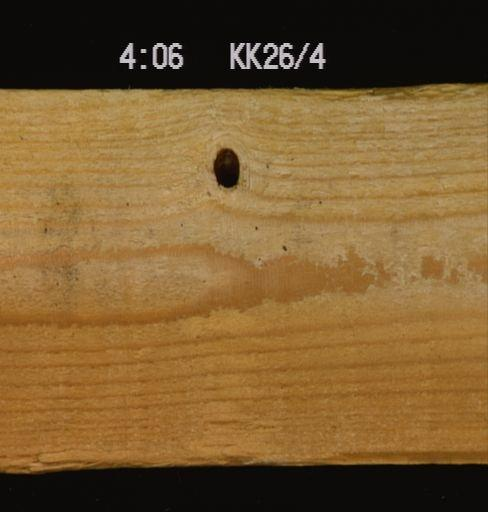wave: (280, 83, 487, 107), (309, 443, 486, 463), (182, 443, 266, 463)
